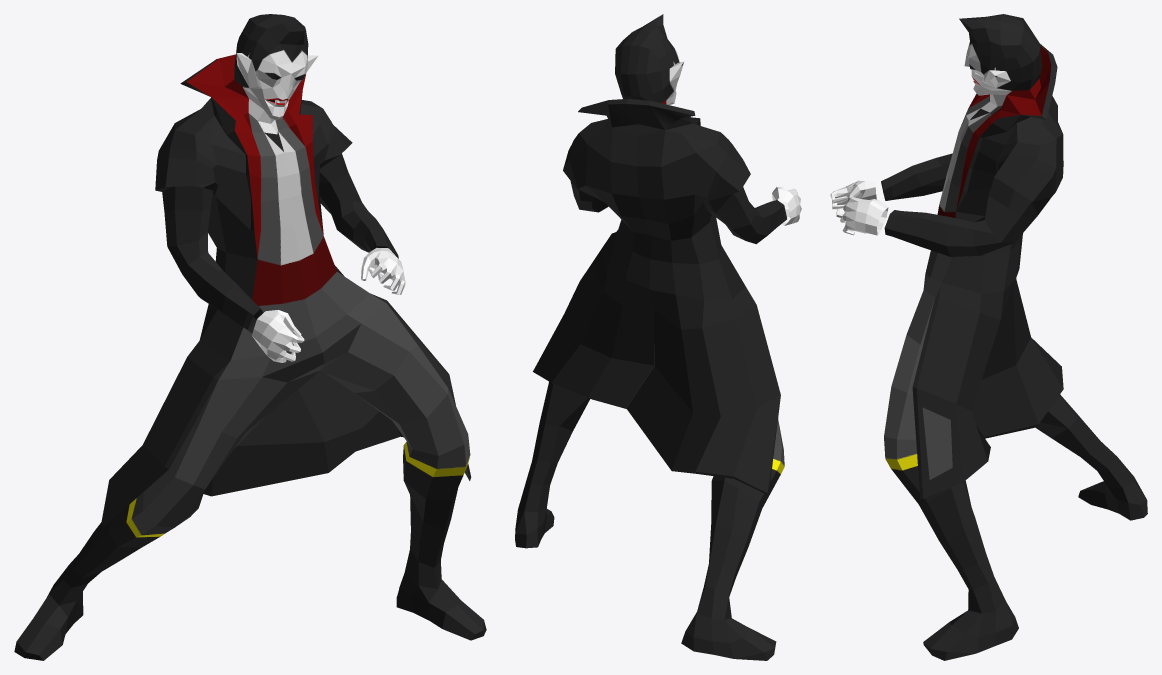
Rendered from VampireAttack(10).obj.
The picture shows the model from 3 angles, left to right: view 1: azimuth 30°, elevation 25°; view 2: azimuth 150°, elevation 25°; view 3: azimuth 270°, elevation 25°; orthographic projection. The views are drawn at different scales.
Parts seen in each view (by area): view 1: Plane002; view 2: Plane002; view 3: Plane002.
Part boxes in pixels (x1=…): Plane002: x1=14, y1=14, x2=486, y2=660; Plane002: x1=515, y1=14, x2=801, y2=660; Plane002: x1=830, y1=14, x2=1147, y2=660.
Size of the model in its own units: 189 by 303 by 154.
